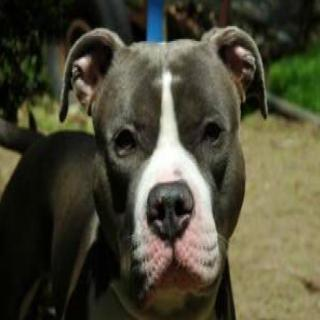dog: (62, 21, 276, 301)
nose: (141, 184, 197, 241)
